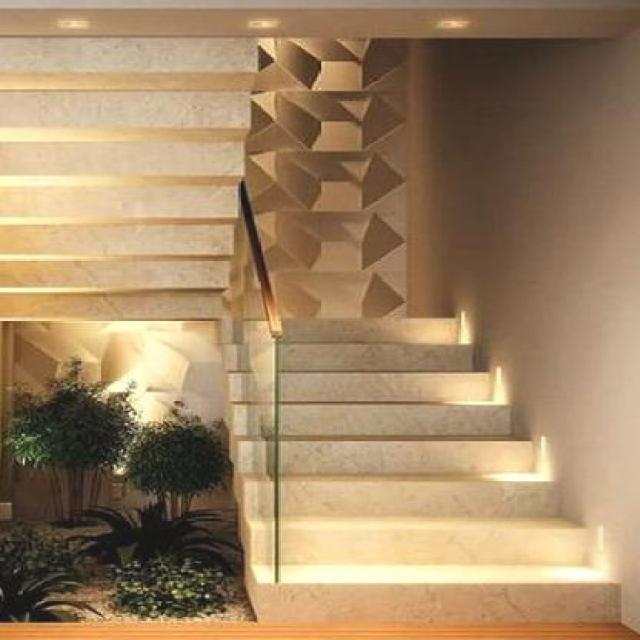stair: (239, 226, 632, 634)
